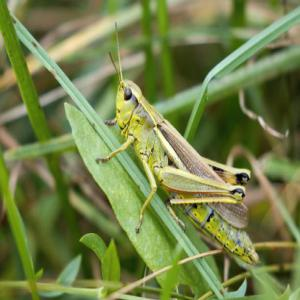locust: (104, 36, 283, 273)
